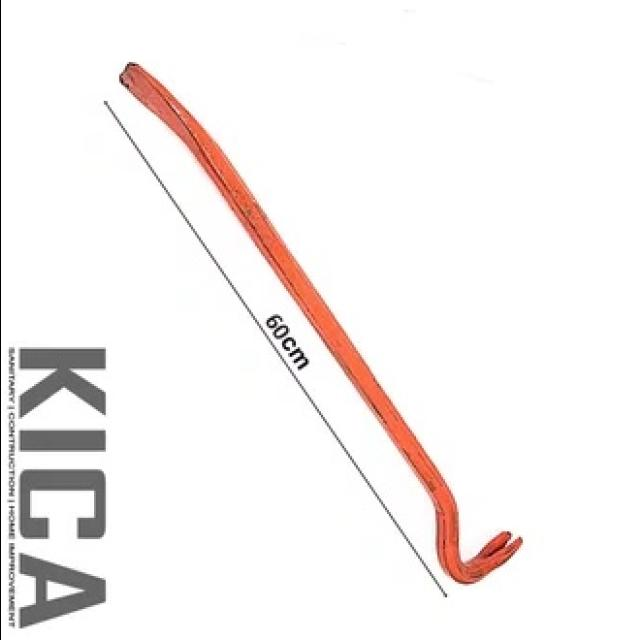Linggis: (115, 62, 527, 586)
